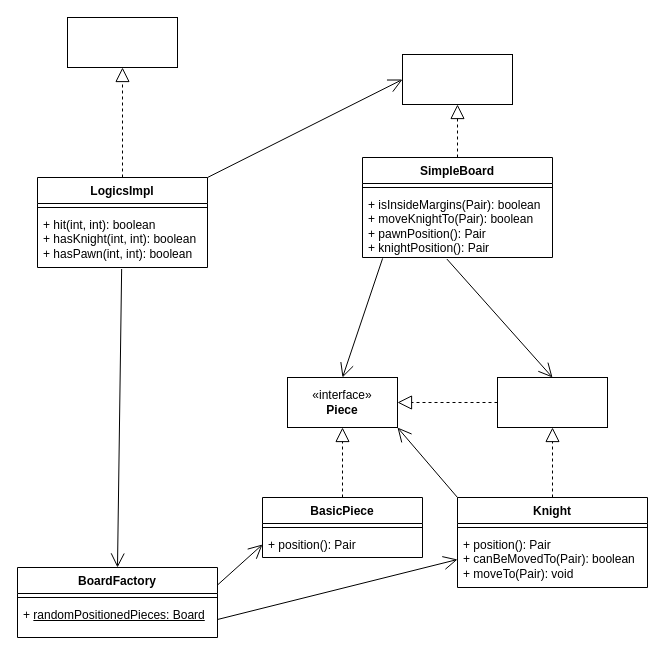
The diagram is 665 pixels wide and 658 high, and some of its shapes have lost their labels. Here are the shapes that lost their labels. From the top down, the centre of each, then its label:
At point (122, 42): "«interface» Logics".
At point (457, 79): "«interface» Board".
At point (552, 402): "«interface» MovablePiece".
